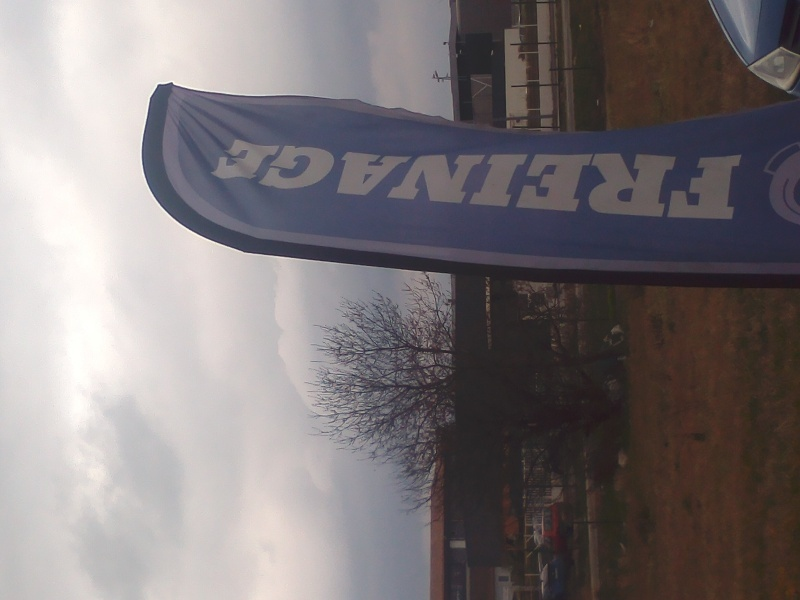text: (225, 130, 240, 224), (241, 130, 256, 224), (257, 130, 272, 224), (273, 130, 288, 224), (289, 130, 304, 224), (305, 130, 320, 224), (321, 130, 336, 224), (337, 130, 352, 224), (353, 130, 368, 224), (369, 130, 384, 224), (385, 130, 400, 224), (401, 130, 416, 224), (417, 130, 432, 224), (433, 130, 448, 224), (449, 130, 464, 224), (465, 130, 480, 224), (481, 130, 496, 224), (497, 130, 512, 224), (513, 130, 528, 224), (529, 130, 544, 224), (545, 130, 560, 224), (561, 130, 576, 224), (577, 130, 592, 224), (593, 130, 608, 224), (609, 130, 624, 224), (625, 130, 640, 224), (641, 130, 656, 224), (657, 130, 672, 224), (673, 130, 688, 224), (689, 130, 704, 224), (705, 130, 720, 224), (721, 130, 736, 224), (737, 130, 743, 224), (221, 130, 224, 224)
